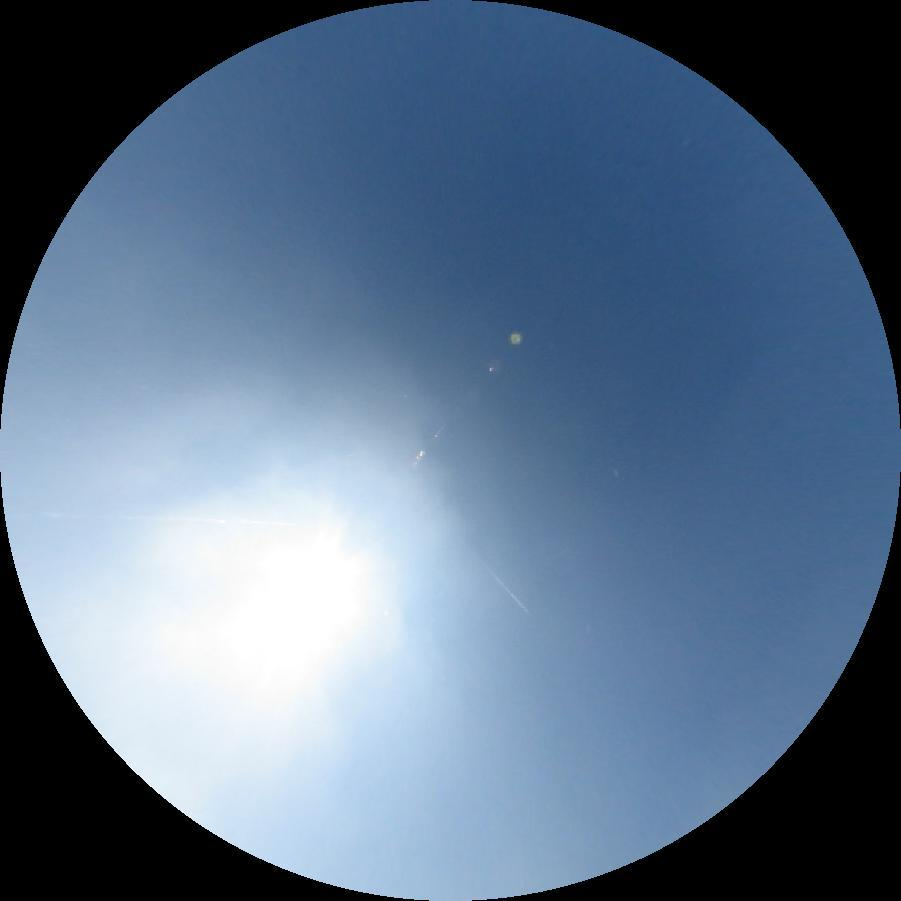contrail young: (473, 554, 530, 614)
parasite: (3, 508, 295, 527)
sun: (225, 540, 369, 652)
